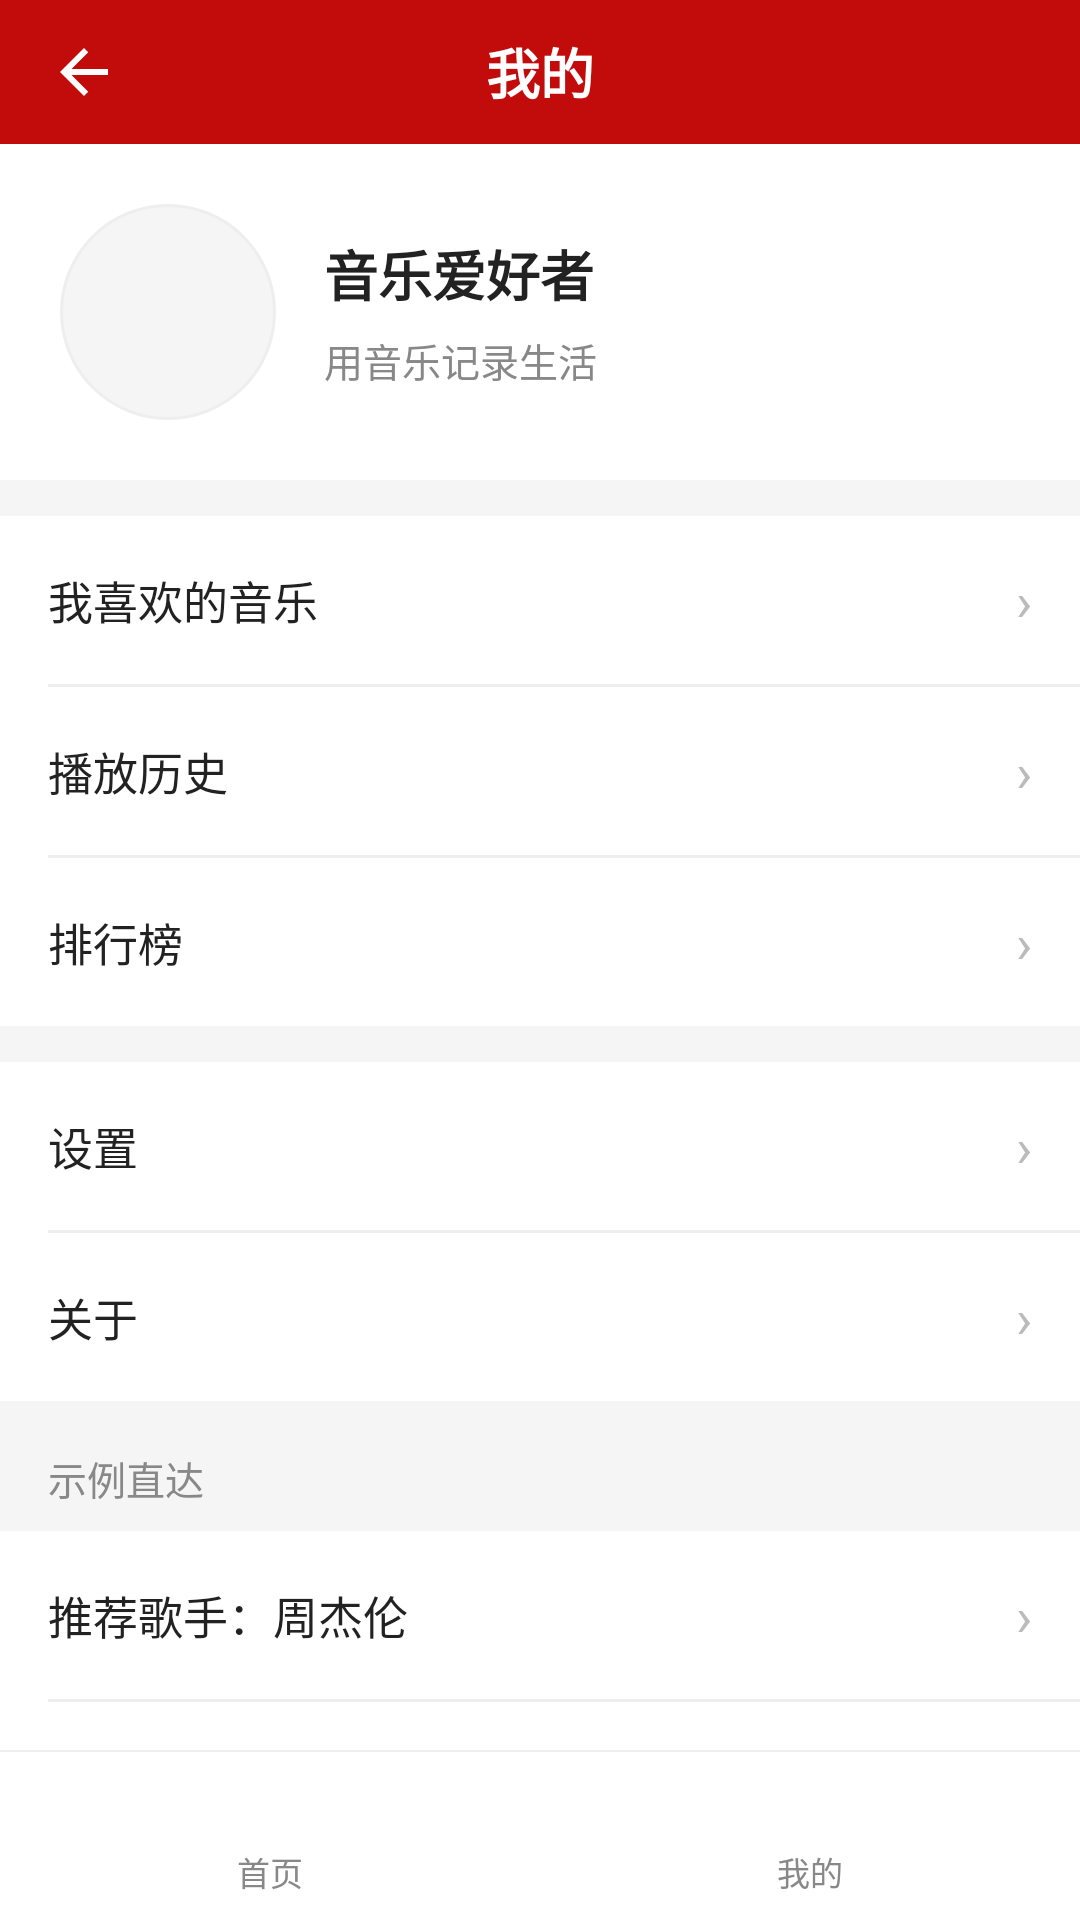

Screen size 1080w x 1920h. Icon name, then its box in pixels as {"left": x1, "top": y1, "right": x2, "bottom": y2}:
返回: {"left": 60, "top": 48, "right": 108, "bottom": 96}
